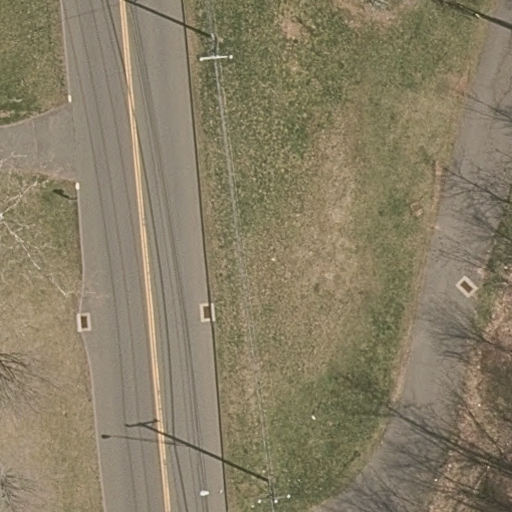DT: (196, 51, 234, 66)
